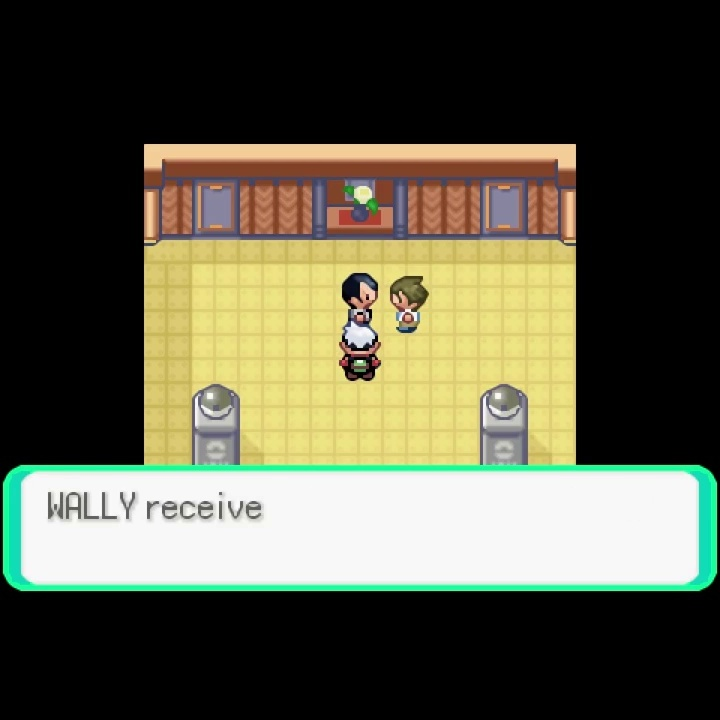npc: (336, 321, 383, 383), (388, 273, 432, 335), (340, 271, 380, 323)
